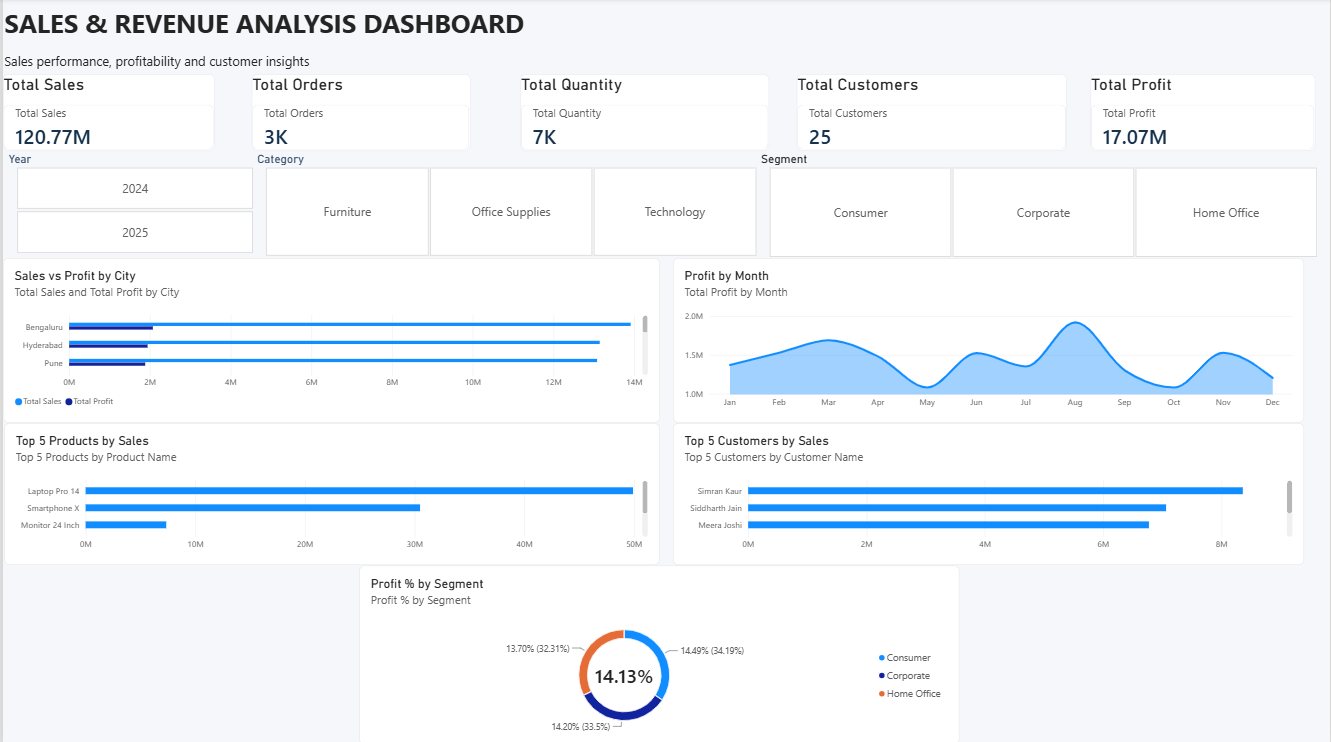

This screenshot's page, from the dashboard's own definition file:
{"tool":"powerbi","page":{"name":"Page 1","canvas":[1920,1080],"ordinal":0},"visuals":[{"type":"cardVisual","title":"Total Sales","fields":{"Data":["Sales Data.Total Sales"]},"box":[0,111.1,306.7,111.1],"z":0},{"type":"cardVisual","title":"Total Orders","fields":{"Data":["Sales Data.Total Orders"]},"box":[360.2,111.1,317,111.1],"z":1},{"type":"cardVisual","title":"Total Profit","fields":{"Data":["Sales Data.Total Profit"]},"box":[1574.6,111.1,325.2,111.1],"z":2},{"type":"cardVisual","title":"Total Customers","fields":{"Data":["Sales Data.Total Customers"]},"box":[1148.5,111.1,391.1,111.1],"z":3},{"type":"cardVisual","title":"Total Quantity","fields":{"Data":["Sales Data.Total Quantity"]},"box":[749.2,111.1,360.2,111.1],"z":4},{"type":"clusteredBarChart","title":"Sales vs Profit by City","fields":{"Category":["Sales Data.City"],"Y":["Sales Data.Total Sales","Sales Data.Total Profit"]},"box":[0,376.7,950.9,238.8],"z":5},{"type":"areaChart","title":"Profit by Month","fields":{"Category":["Sales Data.Month"],"Y":["Sales Data.Total Profit"]},"box":[969.5,376.7,913.9,238.8],"z":6},{"type":"clusteredBarChart","title":"Top 5 Products by Sales","fields":{"Category":["Sales Data.Product Name"],"Y":["Sales Data.Top 5 Products"]},"box":[2.1,615.4,948.9,205.8],"z":7},{"type":"clusteredBarChart","title":"Top 5 Customers by Sales","fields":{"Category":["Sales Data.Customer Name"],"Y":["Sales Data.Top 5 Customers"]},"box":[969.5,615.4,913.9,205.8],"z":8},{"type":"donutChart","title":"Profit % by Segment","fields":{"Category":["Sales Data.Segment"],"Y":["Sales Data.Profit %"]},"box":[516.6,821.3,868.6,259.3],"z":9},{"type":"slicer","fields":{"Values":["Sales Data.Year"]},"box":[0,222.3,380.8,148.2],"z":10},{"type":"slicer","fields":{"Values":["Sales Data.Category"]},"box":[360.2,222.3,749.2,152.3],"z":11},{"type":"slicer","fields":{"Values":["Sales Data.Segment"]},"box":[1088.9,222.3,831.6,154.4],"z":12},{"type":"textbox","box":[2.1,10.3,1852.5,100.9],"z":13}]}

Visuals, with their boxes in screenshot pixels (x1, y1, x2, y2), scaled from the page's 1920x1080 canvas onto the 1331x742 screenshot:
"Total Sales" cardVisual: (left=0, top=76, right=213, bottom=153)
"Total Orders" cardVisual: (left=250, top=76, right=469, bottom=153)
"Total Profit" cardVisual: (left=1092, top=76, right=1317, bottom=153)
"Total Customers" cardVisual: (left=796, top=76, right=1067, bottom=153)
"Total Quantity" cardVisual: (left=519, top=76, right=769, bottom=153)
"Sales vs Profit by City" clusteredBarChart: (left=0, top=259, right=659, bottom=423)
"Profit by Month" areaChart: (left=672, top=259, right=1306, bottom=423)
"Top 5 Products by Sales" clusteredBarChart: (left=1, top=423, right=659, bottom=564)
"Top 5 Customers by Sales" clusteredBarChart: (left=672, top=423, right=1306, bottom=564)
"Profit % by Segment" donutChart: (left=358, top=564, right=960, bottom=741)
slicer - Sales Data.Year: (left=0, top=153, right=264, bottom=255)
slicer - Sales Data.Category: (left=250, top=153, right=769, bottom=257)
slicer - Sales Data.Segment: (left=755, top=153, right=1330, bottom=259)
textbox: (left=1, top=7, right=1286, bottom=76)
